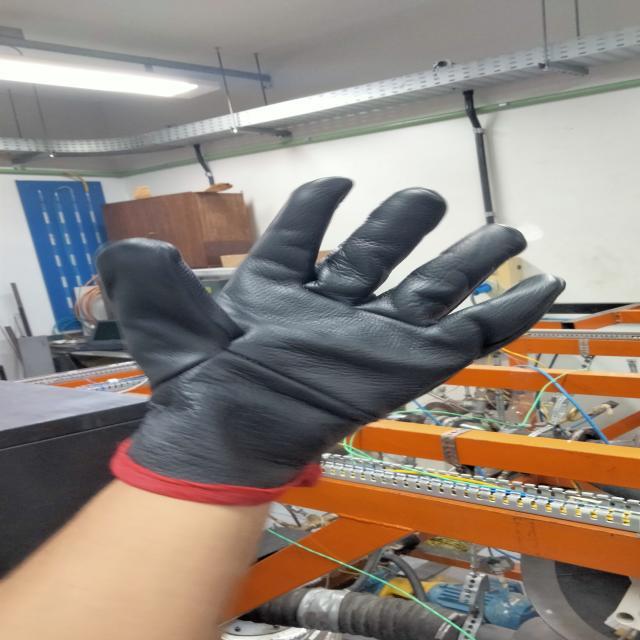Gloves: (93, 174, 570, 500)
